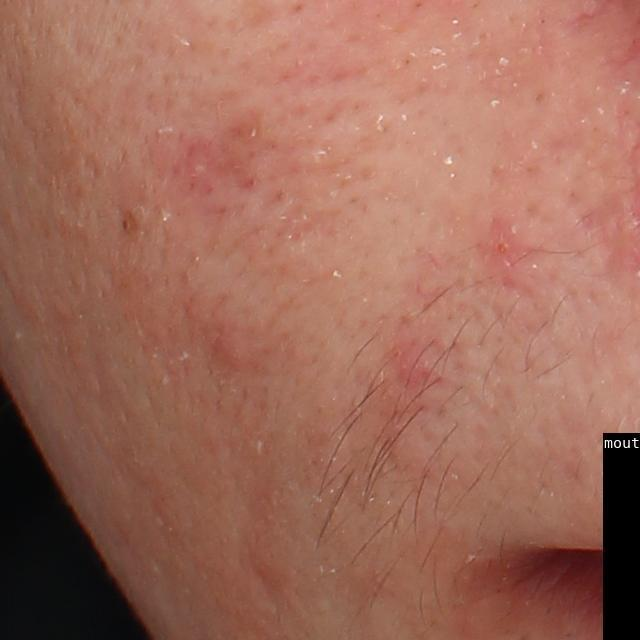papule: (205, 333, 264, 383), (390, 342, 433, 392)
